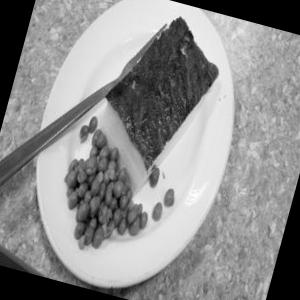casserole: (55, 0, 238, 267)
